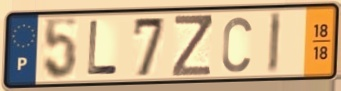5: (41, 15, 79, 83)
7: (131, 16, 167, 79)
C: (220, 14, 254, 75)
I: (266, 10, 284, 76)
L: (86, 19, 120, 77)
Z: (170, 13, 213, 79)
